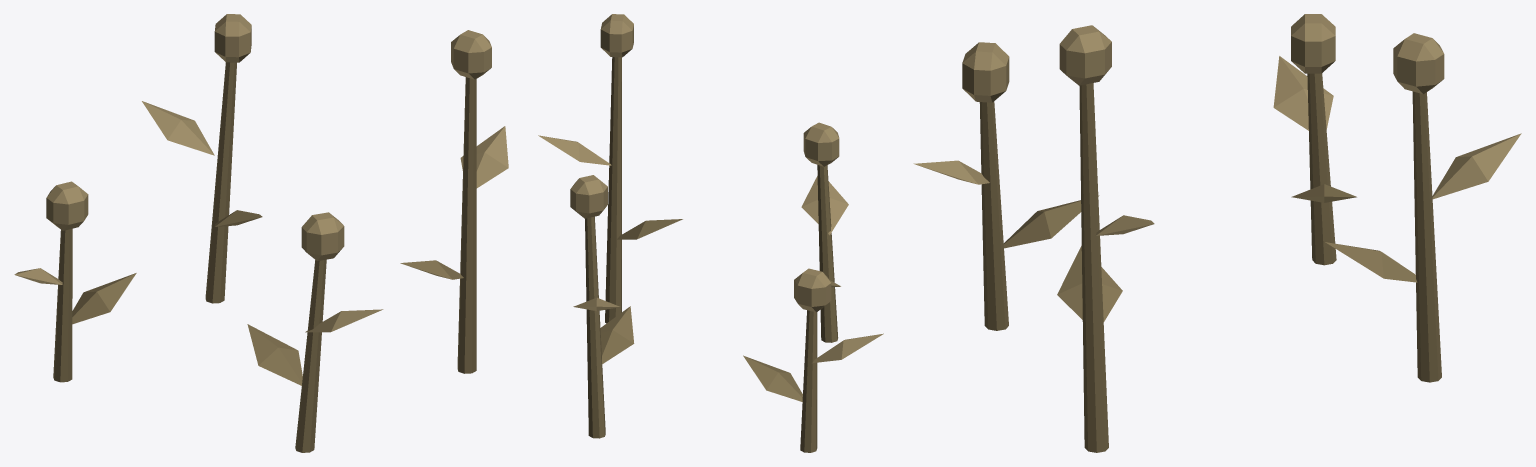
The model's file is flowers_3_autumn.glb.
3 renders of one model, left to right at view 1: azimuth 30°, elevation 25°; view 2: azimuth 150°, elevation 25°; view 3: azimuth 270°, elevation 25°, orthographic. The views are drawn at different scales.
Parts seen in each view (by area): view 1: flowers_3_autumn; view 2: flowers_3_autumn; view 3: flowers_3_autumn.
Part boxes in pixels (x1=…): flowers_3_autumn: x1=14, y1=14, x2=508, y2=452; flowers_3_autumn: x1=538, y1=14, x2=883, y2=452; flowers_3_autumn: x1=913, y1=14, x2=1521, y2=452.
Bounding box in the file's own units: 1.13 × 0.83 × 1.1.
